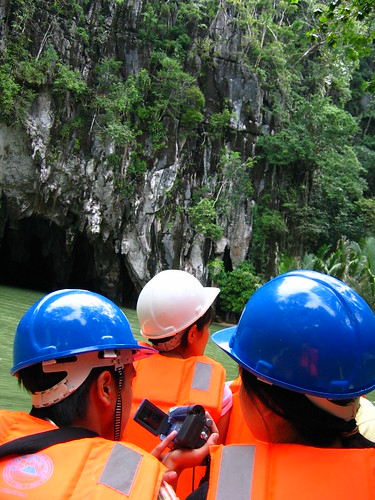person hardhat: (215, 235, 375, 500), (1, 285, 166, 500), (127, 252, 233, 477)
